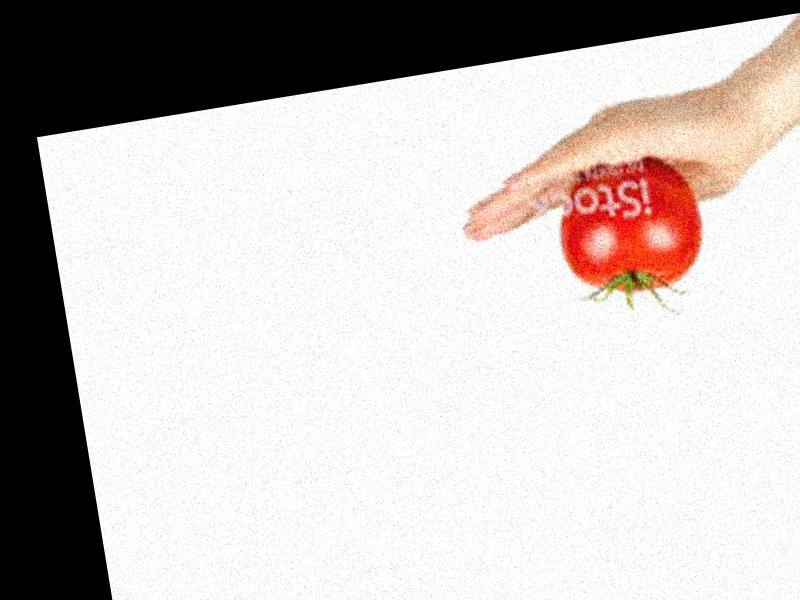Tomato: (552, 153, 711, 305)
